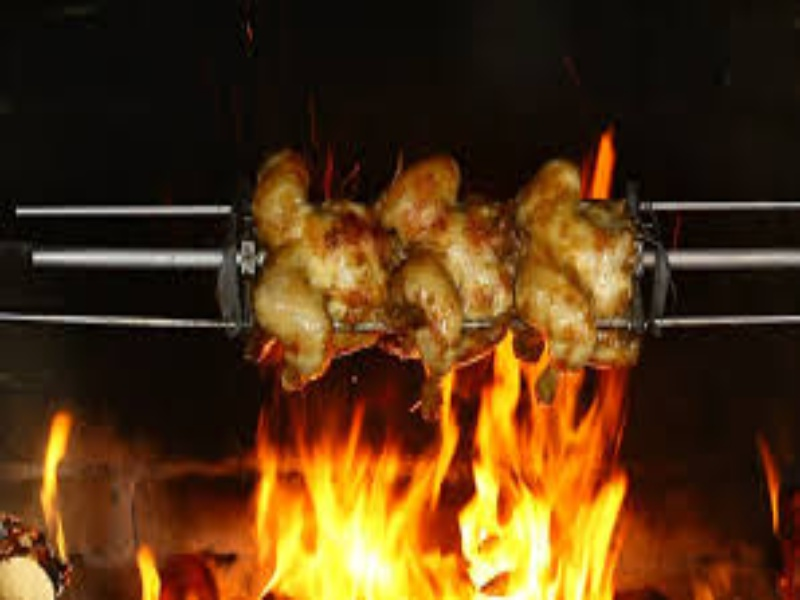fire: (254, 366, 630, 600), (43, 393, 77, 566), (751, 429, 782, 536), (132, 539, 165, 600)
